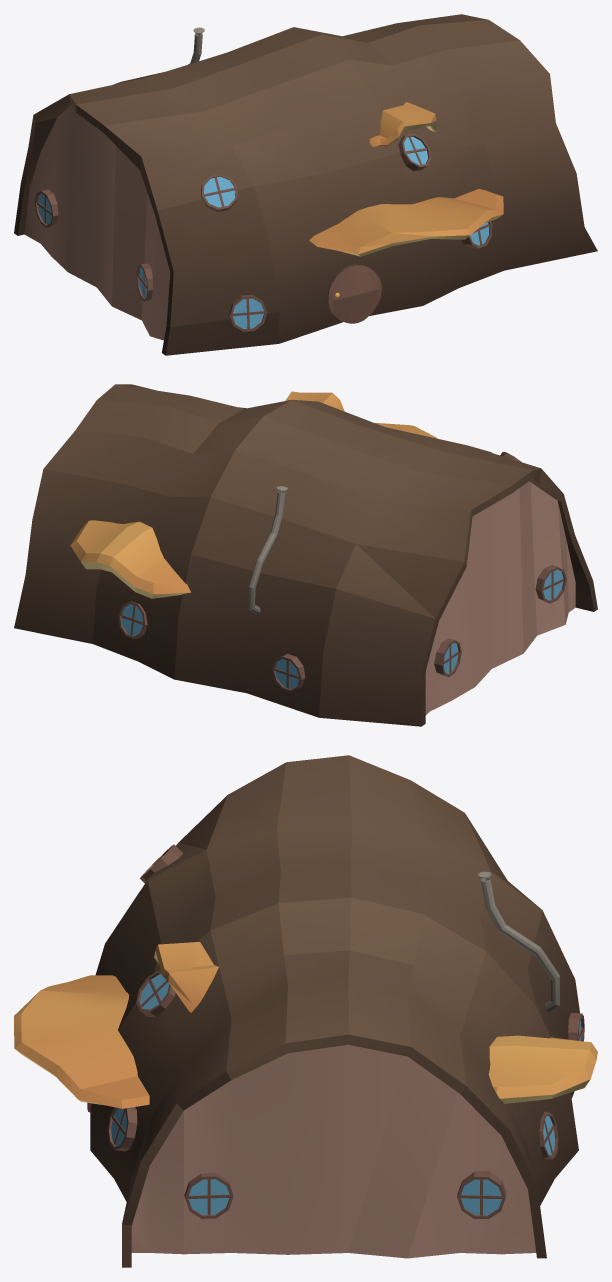
File: Haus_länglich.fbx
The picture shows the model from 3 angles, top to bottom: view 1: azimuth 30°, elevation 25°; view 2: azimuth 150°, elevation 25°; view 3: azimuth 270°, elevation 25°; orthographic projection. The views are drawn at different scales.
Parts seen in each view (by area): view 1: Haus_Benja.002; view 2: Haus_Benja.002; view 3: Haus_Benja.002.
Part boxes in pixels (x1,y1,x2,y2): Haus_Benja.002: (14,14,597,355); Haus_Benja.002: (14,384,597,726); Haus_Benja.002: (14,755,597,1267).
Size of the model in its own units: 1666 by 725 by 1514.
